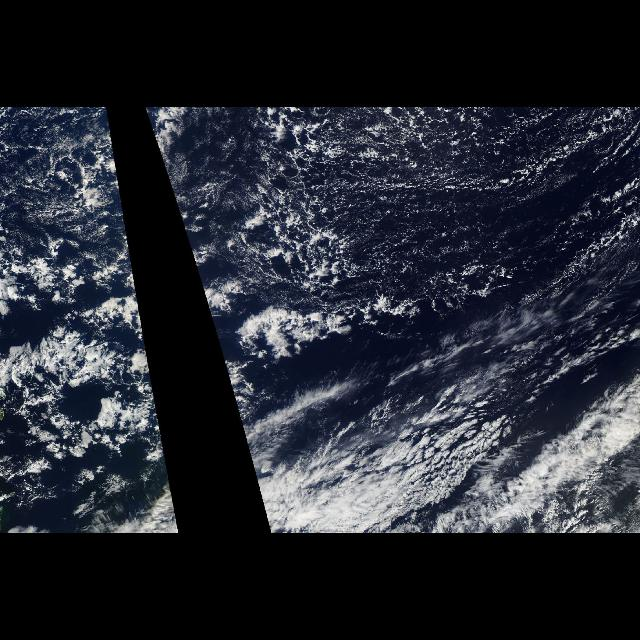Gravel: (255, 108, 640, 292)
Sugar: (331, 118, 639, 286), (0, 107, 134, 273), (144, 107, 248, 273)
